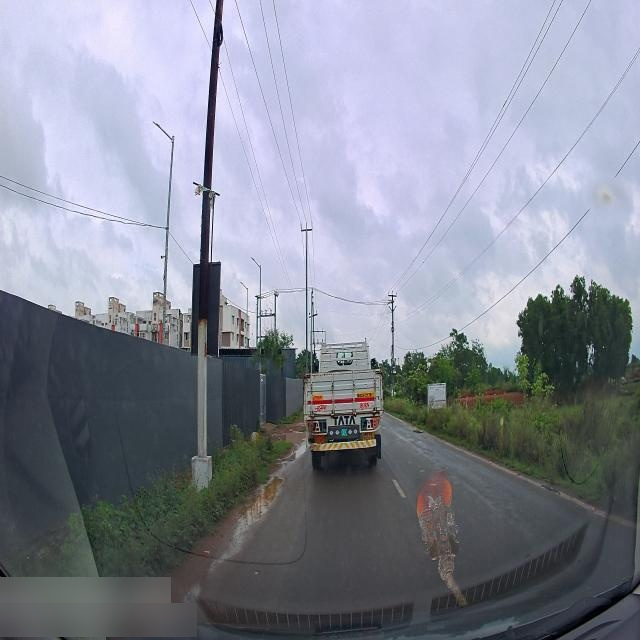pothole: (238, 474, 282, 530), (287, 439, 306, 465)
